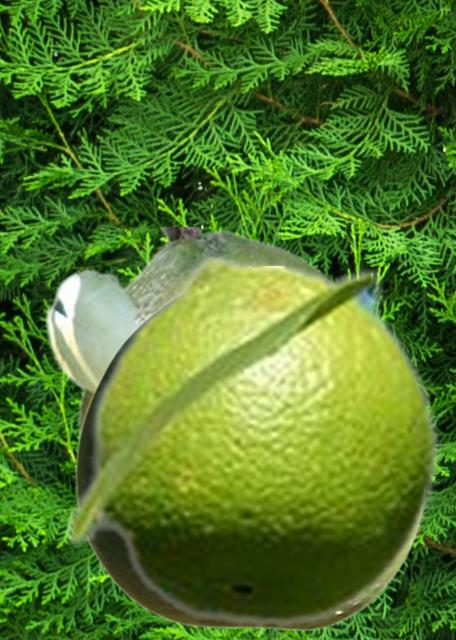dalandan: (61, 253, 442, 629), (74, 327, 422, 630), (43, 227, 324, 445)
